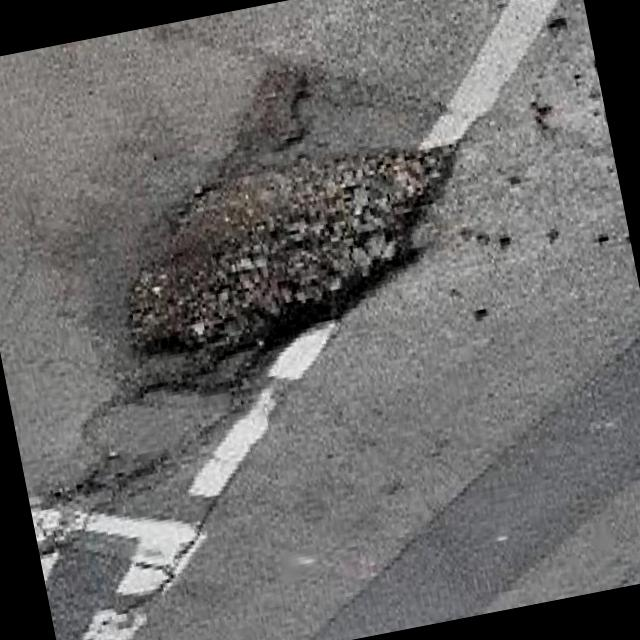Pathole: (107, 143, 459, 401), (29, 454, 162, 507)
